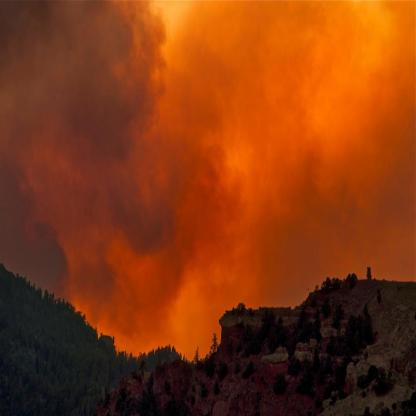smoke: (0, 0, 415, 361)
